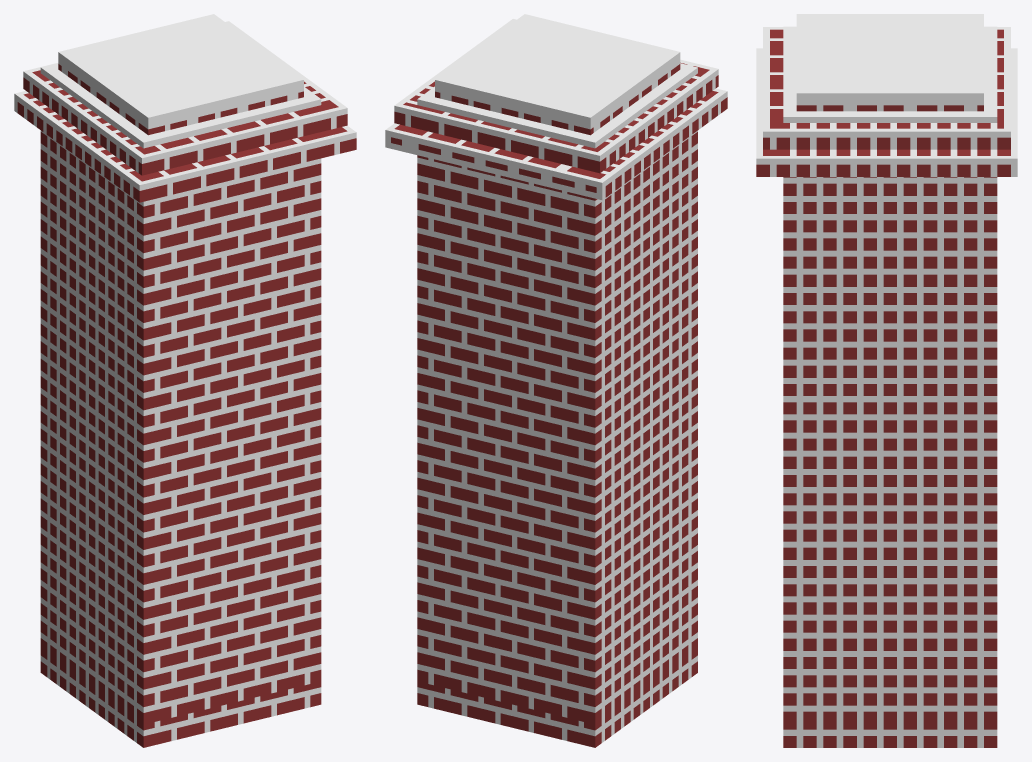
The model's file is pagar_corner.fbx.
3 renders of one model, left to right at view 1: azimuth 30°, elevation 25°; view 2: azimuth 150°, elevation 25°; view 3: azimuth 270°, elevation 25°, orthographic. The views are drawn at different scales.
Parts seen in each view (by area): view 1: Untitled; view 2: Untitled; view 3: Untitled.
Boxes of the visible parts, x1=… form: Untitled: x1=14, y1=14, x2=356, y2=747; Untitled: x1=385, y1=14, x2=727, y2=747; Untitled: x1=756, y1=14, x2=1017, y2=747.
Bounding box in the file's own units: 390 × 1070 × 390.
Materials: 1 (1 with a texture image).
